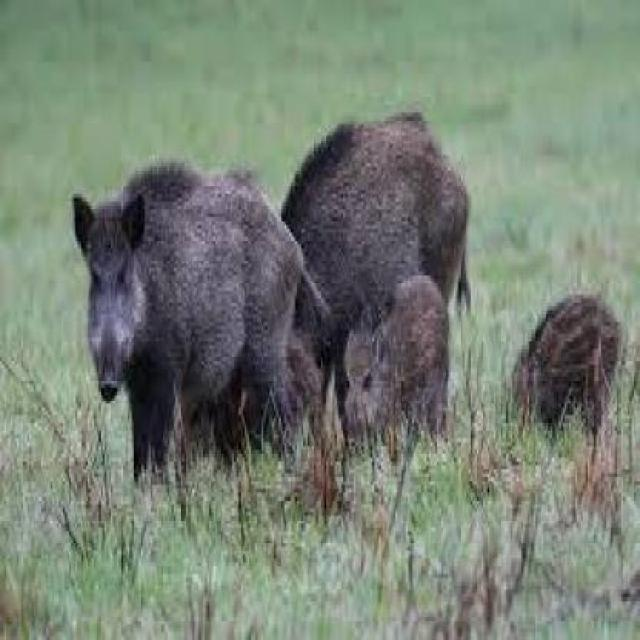wildboar: (66, 150, 340, 508), (260, 102, 478, 432), (336, 272, 458, 470), (506, 288, 626, 458)
